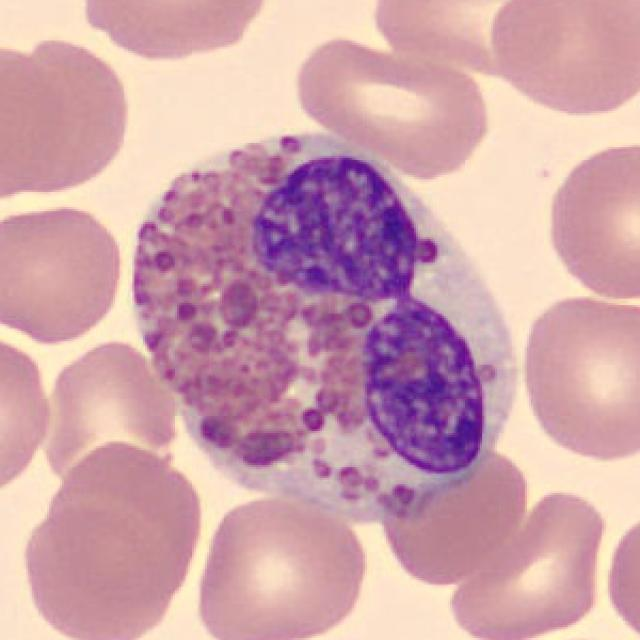White Blood Cell: (134, 136, 512, 518)
